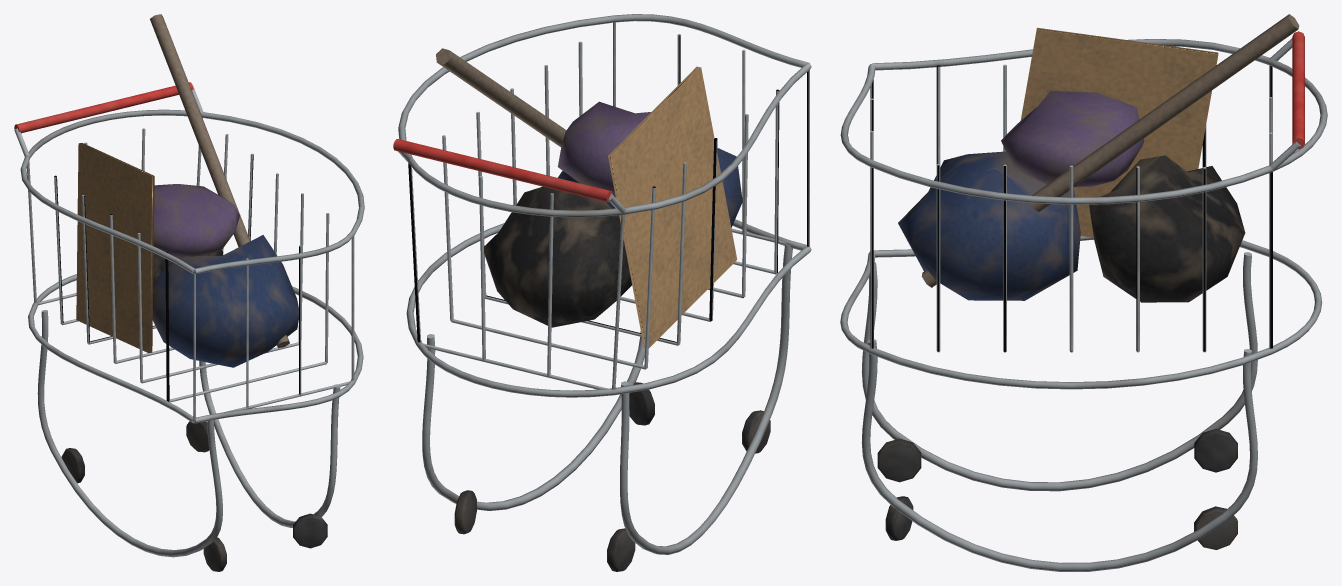
Rendered from bezd_wozek.glb.
3 renders of one model, left to right at view 1: azimuth 30°, elevation 25°; view 2: azimuth 150°, elevation 25°; view 3: azimuth 270°, elevation 25°, orthographic. The views are drawn at different scales.
Visible parts, largest first — view 1: Dobytek, Wozek; view 2: Dobytek, Wozek; view 3: Dobytek, Wozek.
Boxes of the visible parts, x1,y1,x2,y2 form: Dobytek: (76,14,298,367); Wozek: (14,82,364,571); Dobytek: (436,48,742,348); Wozek: (393,14,811,571); Dobytek: (898,14,1299,302); Wozek: (840,31,1327,571).
Bounding box in the file's own units: 0.8346 × 1.31 × 1.06.
Materials: 2 (2 with a texture image).
